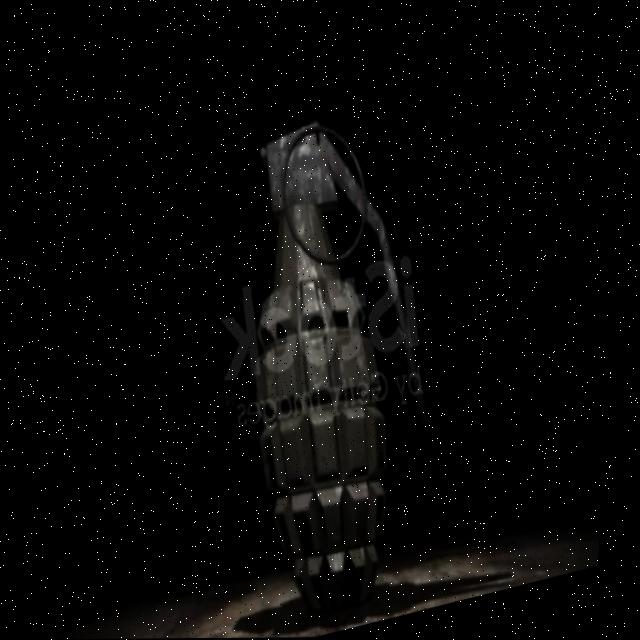grenade: (166, 85, 518, 639)
